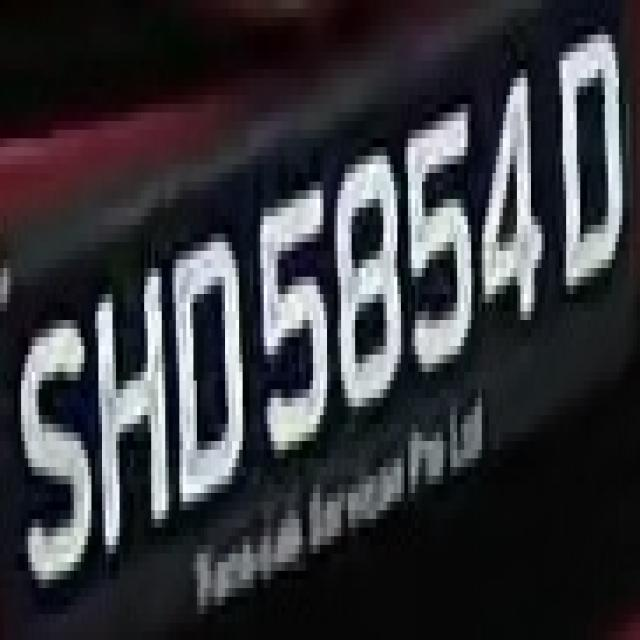4: (457, 52, 538, 329)
5: (250, 173, 334, 476), (390, 95, 475, 363)
8: (327, 130, 415, 441)
D: (168, 190, 250, 528), (548, 26, 636, 303)
H: (88, 251, 176, 562)
S: (10, 294, 91, 588)
